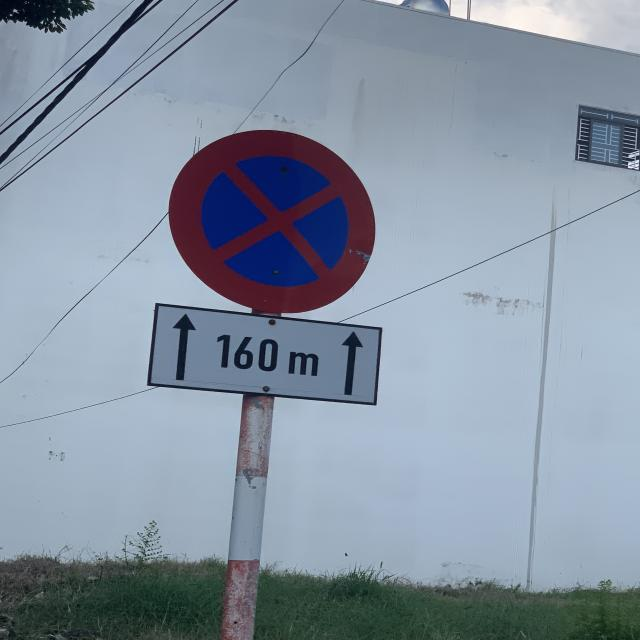Cam_Dung_Va_Dau_Xe: (166, 130, 378, 313)
